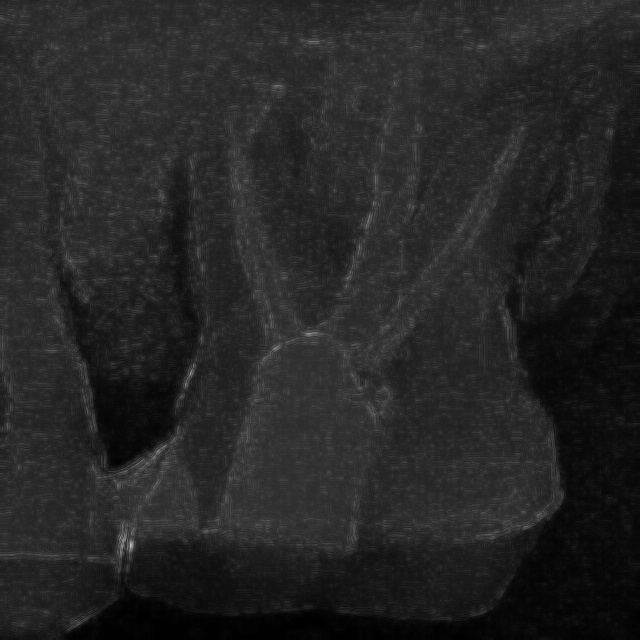Class 0- No endodontic treatment: (109, 1, 621, 624)
